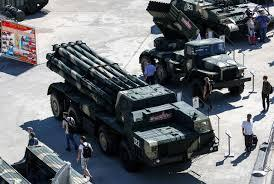MIL_SAM_TEL: (45, 41, 212, 171), (137, 1, 243, 99)
